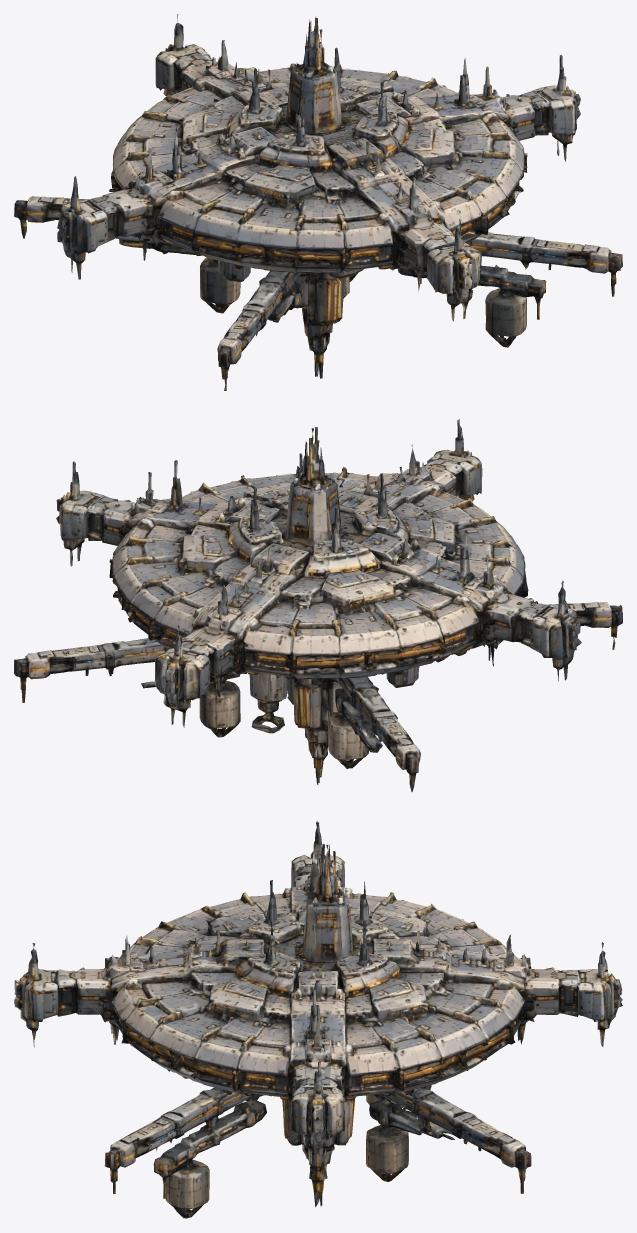
Rendered from st3d_sigma19_deepcut.glb.
3 views of the same model, one above another, from view 1: azimuth 30°, elevation 25°; view 2: azimuth 150°, elevation 25°; view 3: azimuth 270°, elevation 25° (orthographic).
Visible parts, largest first — view 1: HOMELANCER_Station3D_Sigma19-DeepcutTransit_v1; view 2: HOMELANCER_Station3D_Sigma19-DeepcutTransit_v1; view 3: HOMELANCER_Station3D_Sigma19-DeepcutTransit_v1.
Part boxes in pixels (x1,y1,x2,y2): HOMELANCER_Station3D_Sigma19-DeepcutTransit_v1: (14, 14, 622, 390); HOMELANCER_Station3D_Sigma19-DeepcutTransit_v1: (14, 419, 622, 791); HOMELANCER_Station3D_Sigma19-DeepcutTransit_v1: (14, 821, 622, 1218).
Size of the model in its own units: 0.9892 by 0.649 by 0.9873.
Materials: 1 (1 with a texture image).
